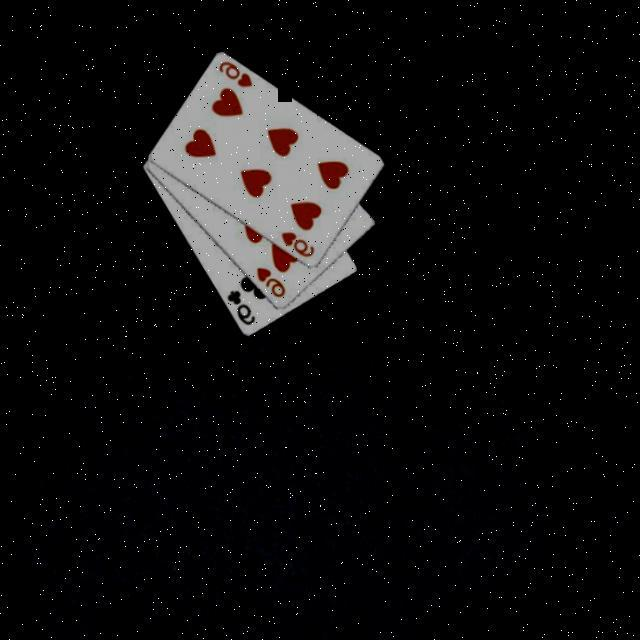6C: (223, 288, 259, 330)
6H: (213, 58, 256, 92), (278, 228, 318, 262)
9H: (252, 264, 288, 302)
